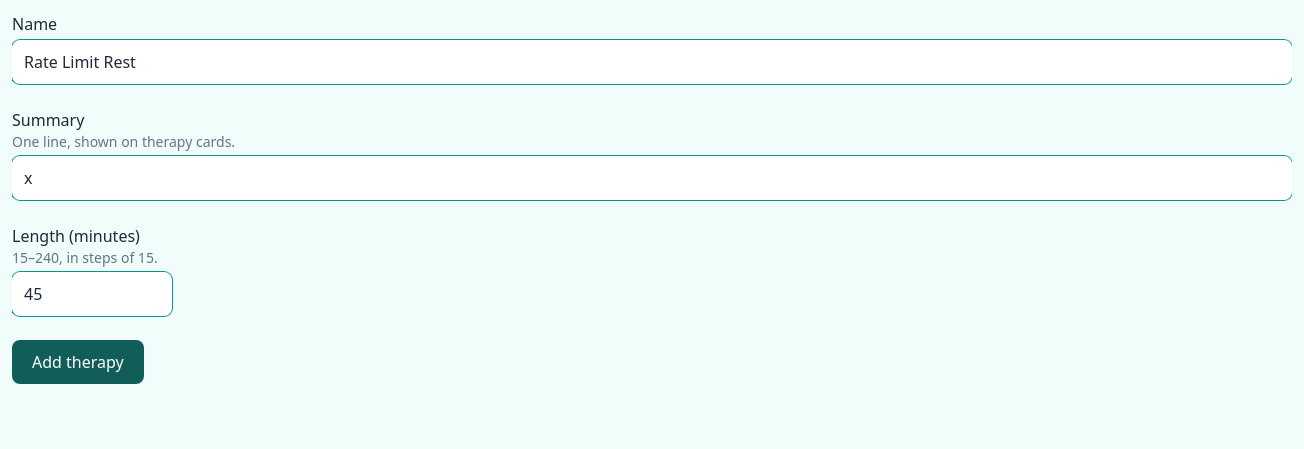
Test: TherapyForm › shows errors next to their fields, keeps the values, and focuses the first
Click the button "Add therapy".
click(78, 362)  # box [12,340,144,384]
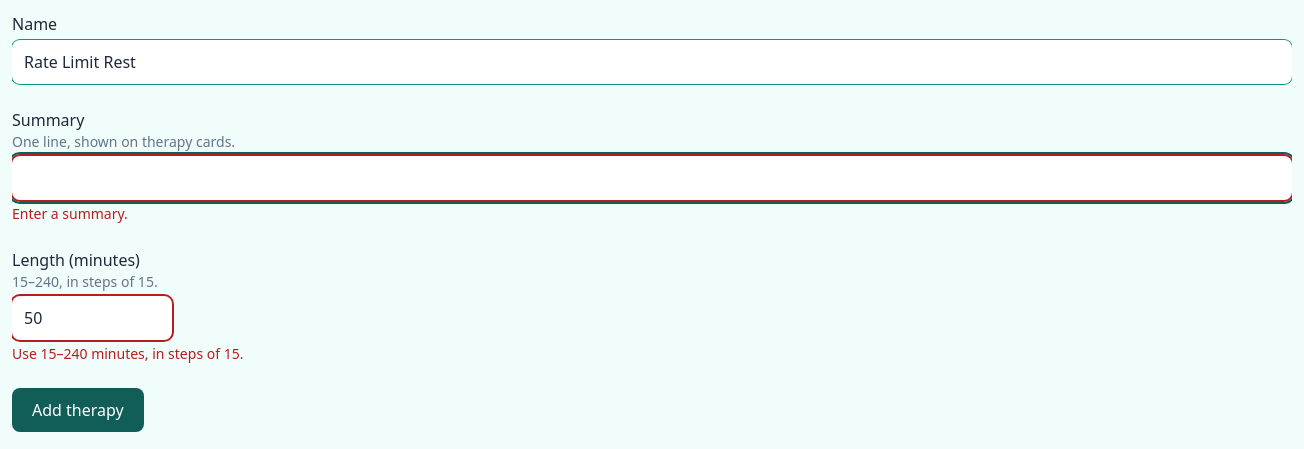
Check: the field labelled "Name" holds "Rate Limit Rest", box [12,40,1292,84]
Check: the number field labelled "Length (minutes)" holds "50", box [12,296,172,340]
